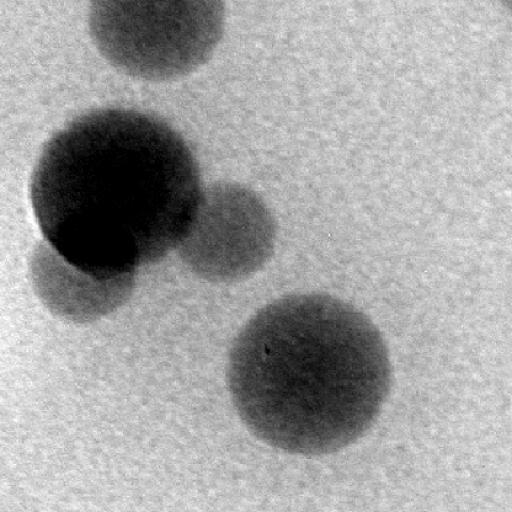Nanoparticles: (28, 105, 206, 280), (224, 294, 402, 458), (86, 0, 248, 88), (170, 178, 284, 286), (24, 235, 137, 319)
